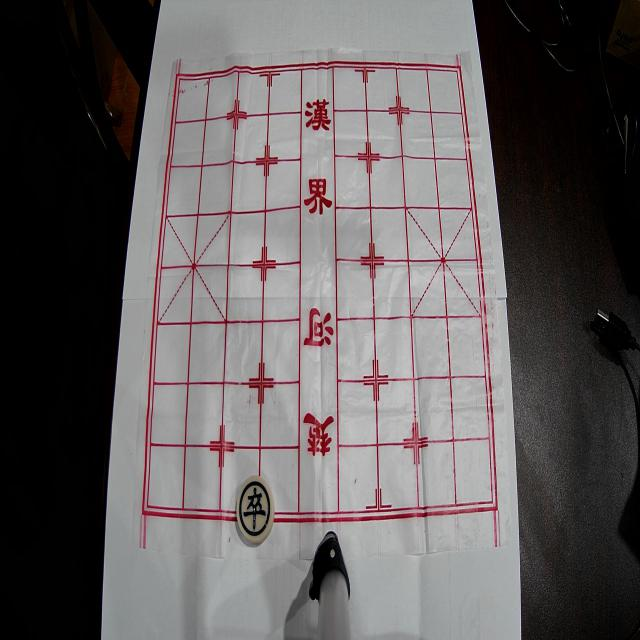black-soldier: (236, 475, 274, 545)
